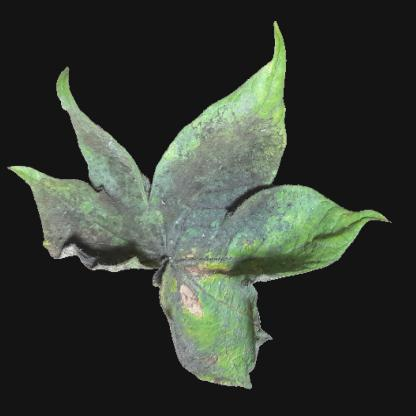curl_stage1: (254, 69, 284, 117), (200, 265, 234, 287), (193, 324, 217, 350)
sooty: (164, 126, 262, 246), (55, 176, 138, 252), (246, 185, 298, 243), (134, 208, 164, 269), (256, 118, 284, 177), (165, 258, 209, 292), (177, 293, 195, 371), (88, 130, 114, 175), (195, 349, 227, 379)
